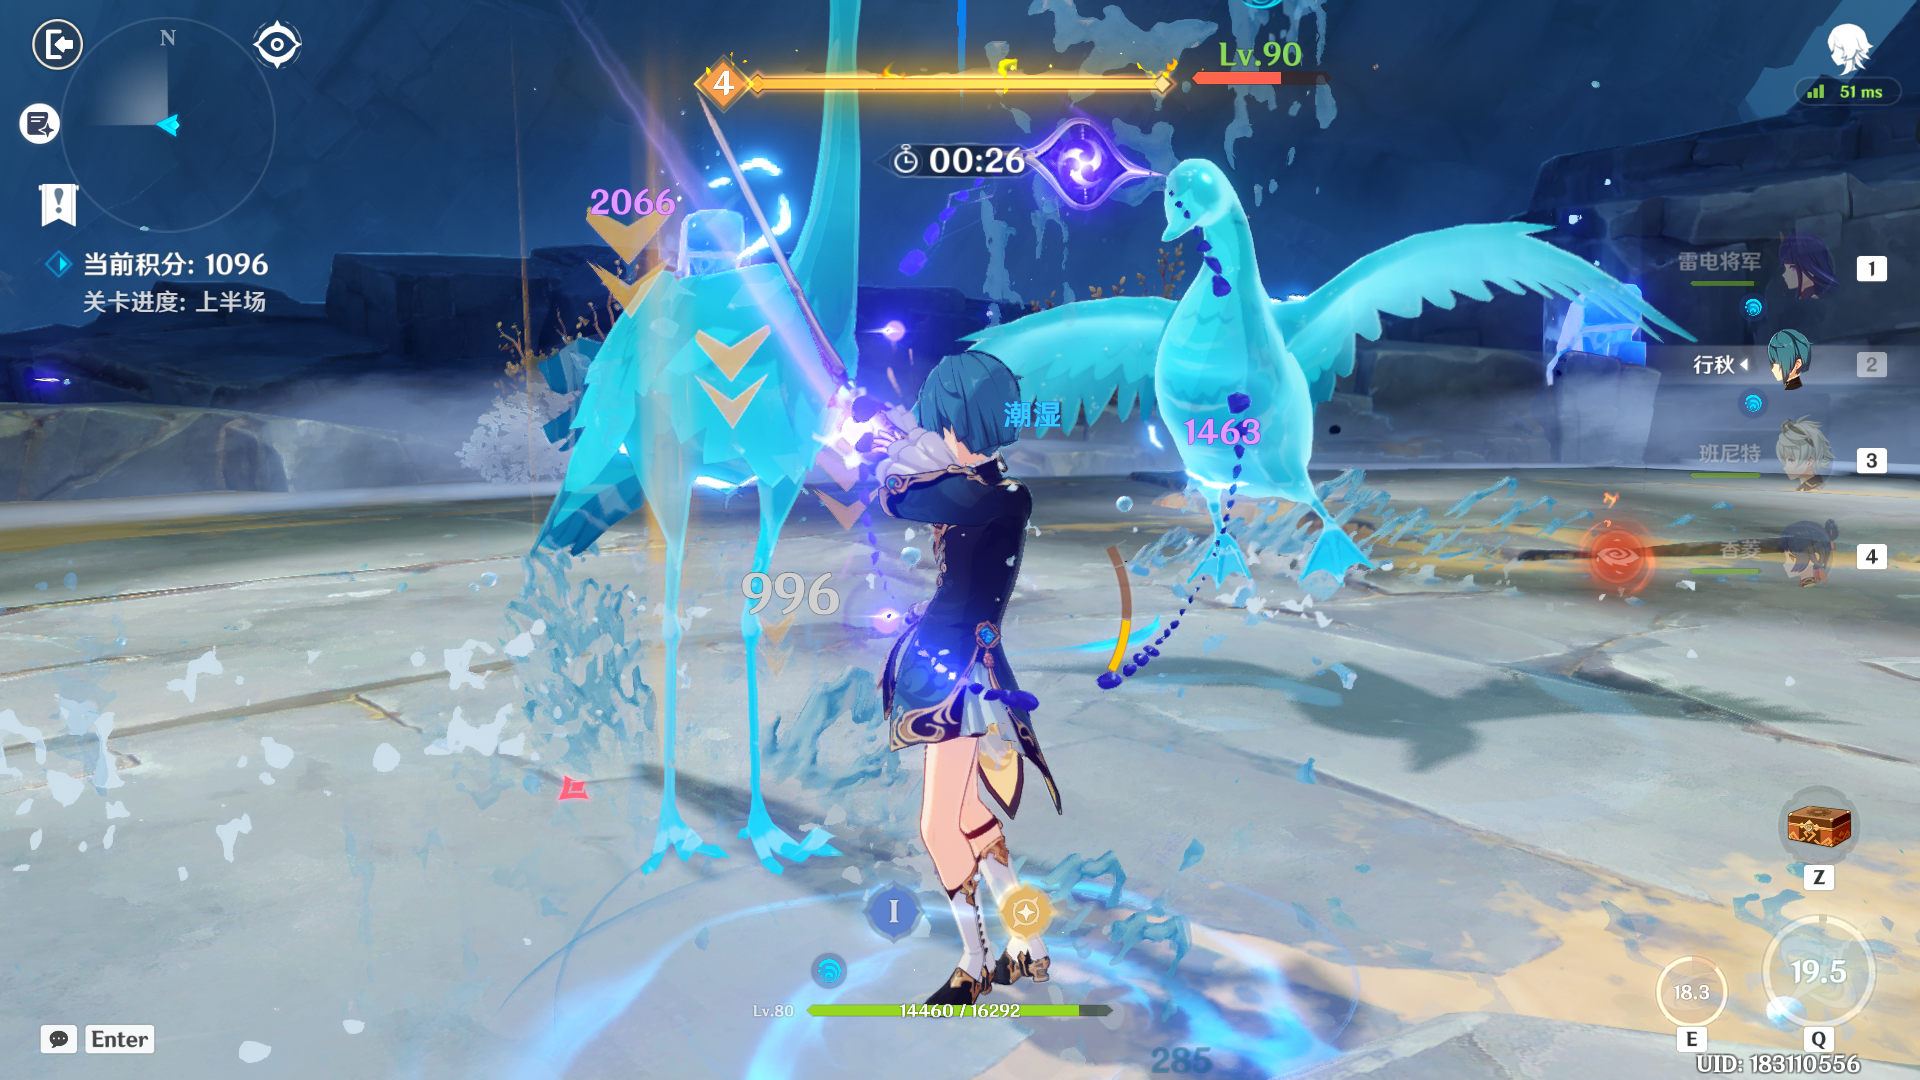character: (794, 323, 1109, 1030)
